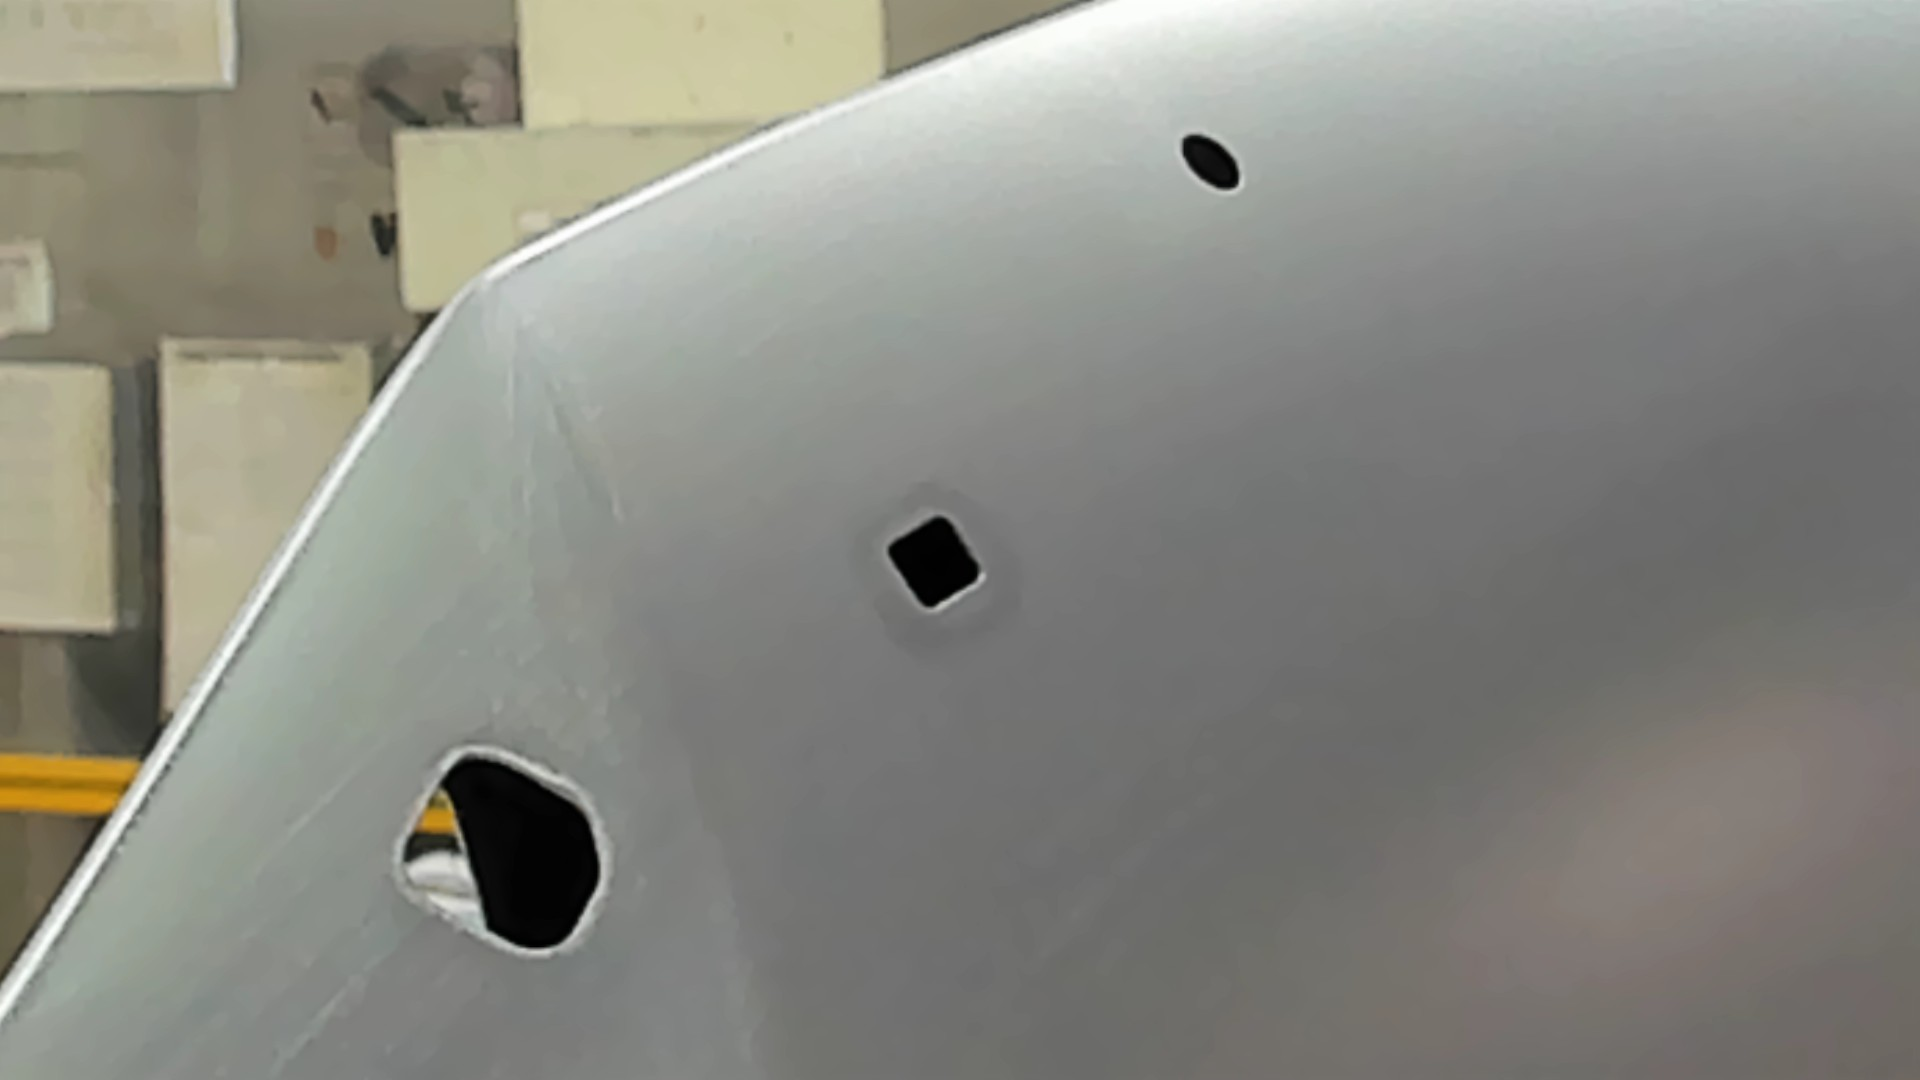chico: (1175, 132, 1246, 194)
grande: (386, 738, 613, 965)
mediano: (884, 512, 986, 617)
